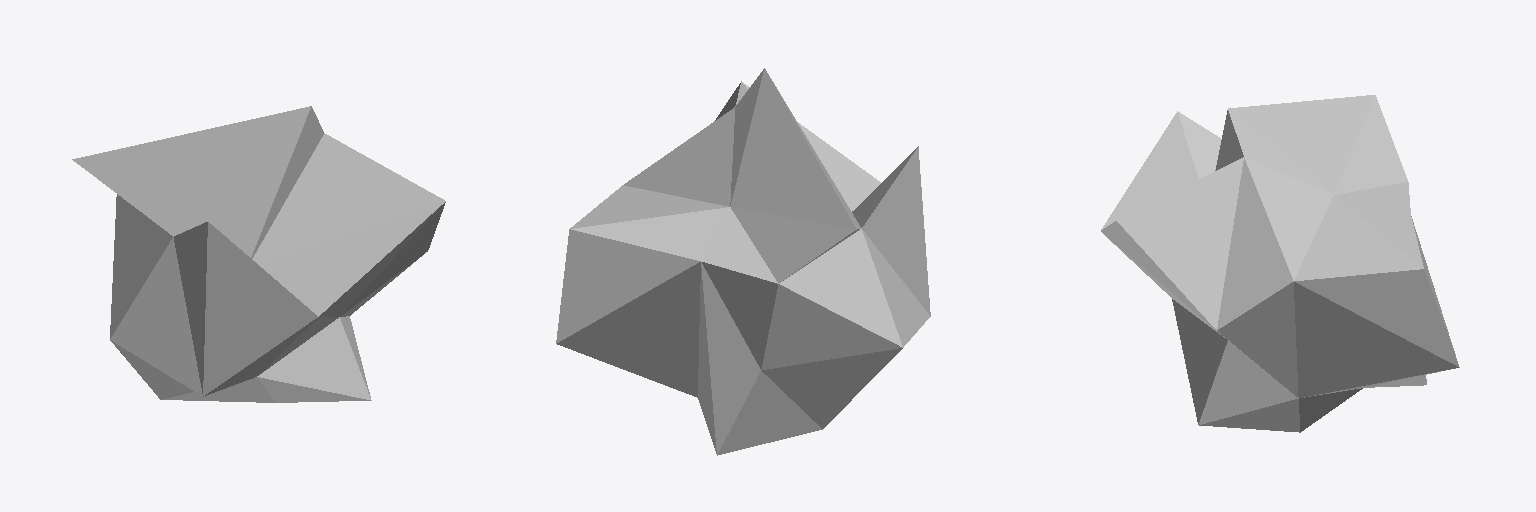
The model's file is crumpled_paper_1.obj.
3 views of the same model, side by side, from view 1: azimuth 30°, elevation 25°; view 2: azimuth 150°, elevation 25°; view 3: azimuth 270°, elevation 25° (orthographic).
Parts seen in each view (by area): view 1: crumpled_paper_1_Cube.014; view 2: crumpled_paper_1_Cube.014; view 3: crumpled_paper_1_Cube.014.
Part boxes in pixels (left/top/right/bottom): crumpled_paper_1_Cube.014: left=72, top=106, right=445, bottom=402; crumpled_paper_1_Cube.014: left=556, top=68, right=930, bottom=455; crumpled_paper_1_Cube.014: left=1101, top=95, right=1459, bottom=432.
Size of the model in its own units: 0.588 by 0.6467 by 0.6505.